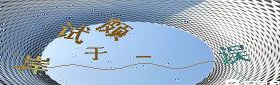chinese: (15, 51, 51, 78), (99, 14, 133, 42), (219, 43, 253, 70), (57, 19, 90, 44), (80, 43, 107, 64)
